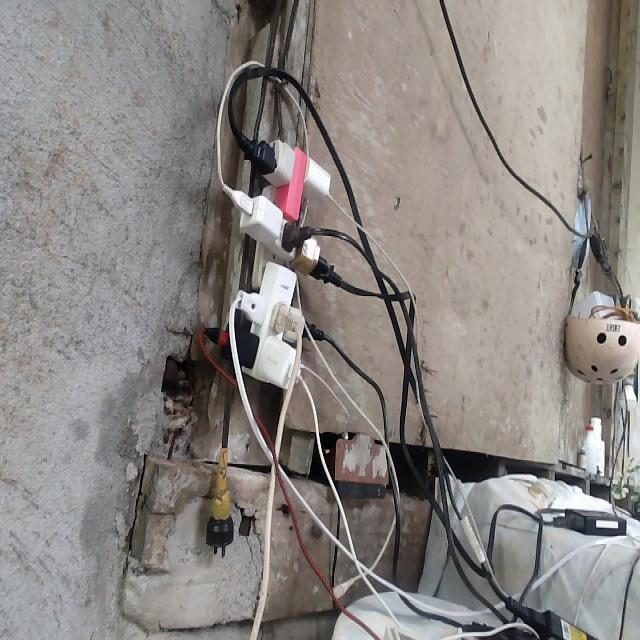-: (218, 136, 329, 391)
